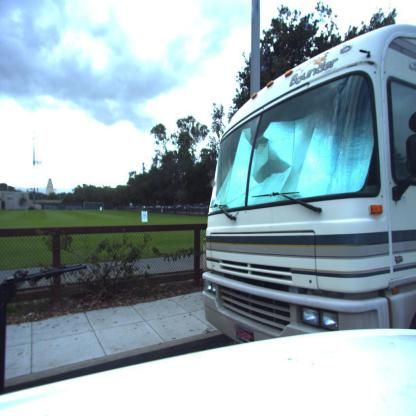bus: (199, 17, 415, 353)
